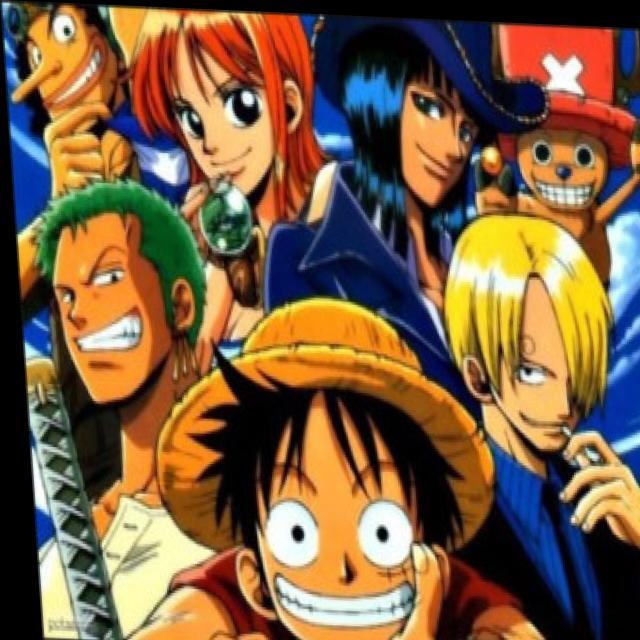Chyopa: (477, 17, 640, 223)
Luffy: (138, 299, 525, 640)
Nami: (121, 4, 322, 185)
NicoRobin: (304, 11, 502, 212)
Sangdi: (428, 223, 639, 471)
Usopp: (0, 0, 150, 142)
Zoro: (24, 169, 234, 422)
